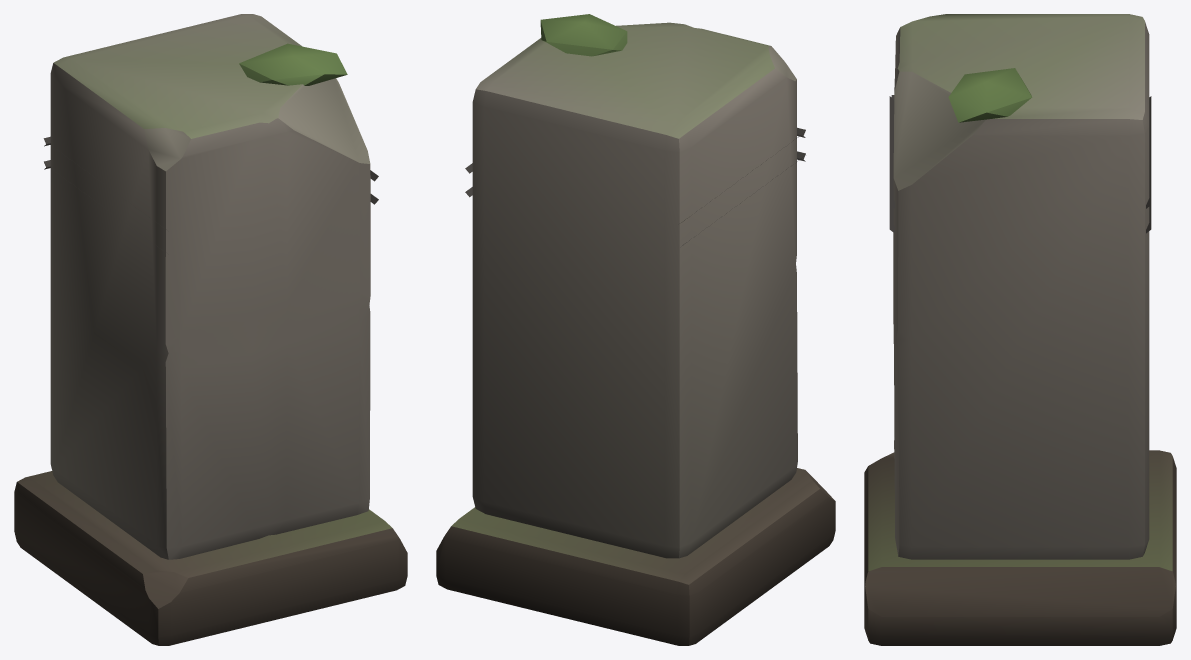
Rendered from ruins-pc-pillar.glb.
The picture shows the model from 3 angles, left to right: view 1: azimuth 30°, elevation 25°; view 2: azimuth 150°, elevation 25°; view 3: azimuth 270°, elevation 25°; orthographic projection. The views are drawn at different scales.
Visible parts, largest first — view 1: 0_ruins_pc_pillar; view 2: 0_ruins_pc_pillar; view 3: 0_ruins_pc_pillar.
Boxes of the visible parts, bbox=[...] form: 0_ruins_pc_pillar: bbox=[14, 14, 407, 645]; 0_ruins_pc_pillar: bbox=[436, 14, 835, 645]; 0_ruins_pc_pillar: bbox=[864, 14, 1176, 645].
Bounding box in the file's own units: 0.46 × 0.8687 × 0.46.
